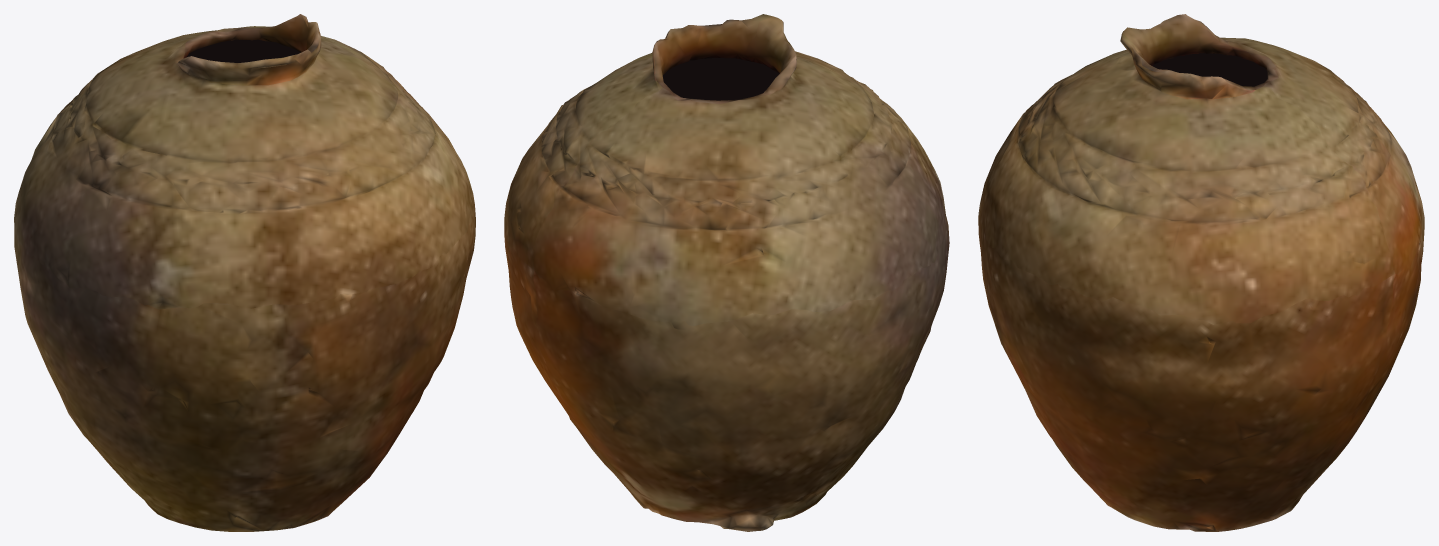
The model's file is cma-shigaraki-ash-glazed-storage-jar.lod1.glb.
3 views of the same model, side by side, from view 1: azimuth 30°, elevation 25°; view 2: azimuth 150°, elevation 25°; view 3: azimuth 270°, elevation 25° (orthographic). The views are drawn at different scales.
Parts seen in each view (by area): view 1: 1973.18_storage_jar; view 2: 1973.18_storage_jar; view 3: 1973.18_storage_jar.
Boxes of the visible parts, x1=… form: 1973.18_storage_jar: x1=14, y1=14, x2=475, y2=531; 1973.18_storage_jar: x1=504, y1=14, x2=949, y2=531; 1973.18_storage_jar: x1=978, y1=14, x2=1424, y2=531.
Bounding box in the file's own units: 0.4125 × 0.4568 × 0.4033.
1 material, 1 textured.
